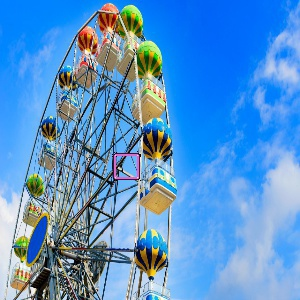square: (113, 154, 140, 180)
